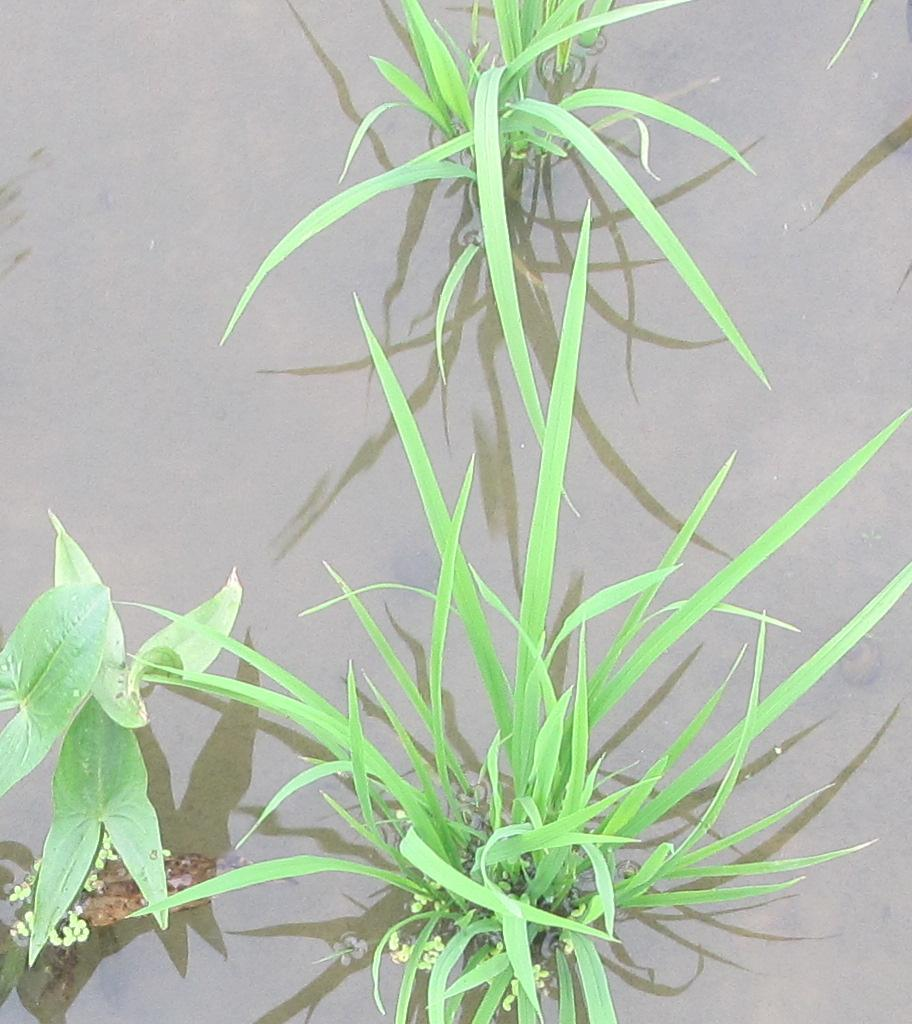Weed: (7, 566, 172, 939)
